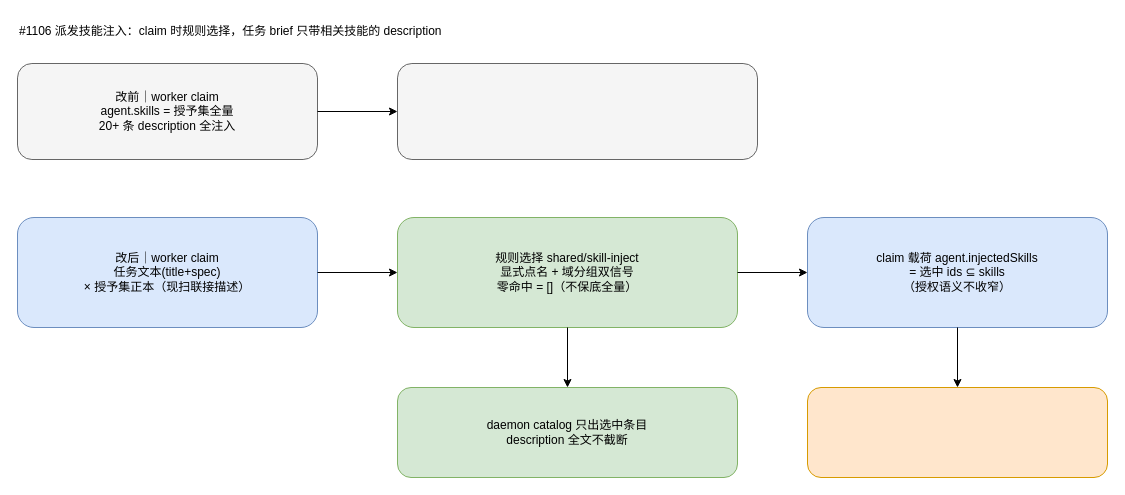
This 1125x495 diagram has some shape labels left out. Each missing label, with the centre of its shape:
"daemon catalog 全量注入 任务 brief = 无关技能噪声 （上下文爆，agent 靠自觉挑）" goes at pixel 577 111.
"step.skillInjection 随 claim 落库 {id, rule, reason}（详情面可查）" goes at pixel 957 432.
